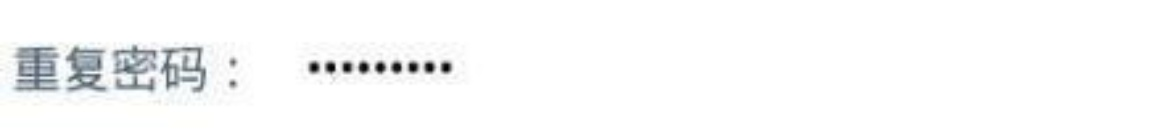EditText: (1, 1, 1166, 139)
